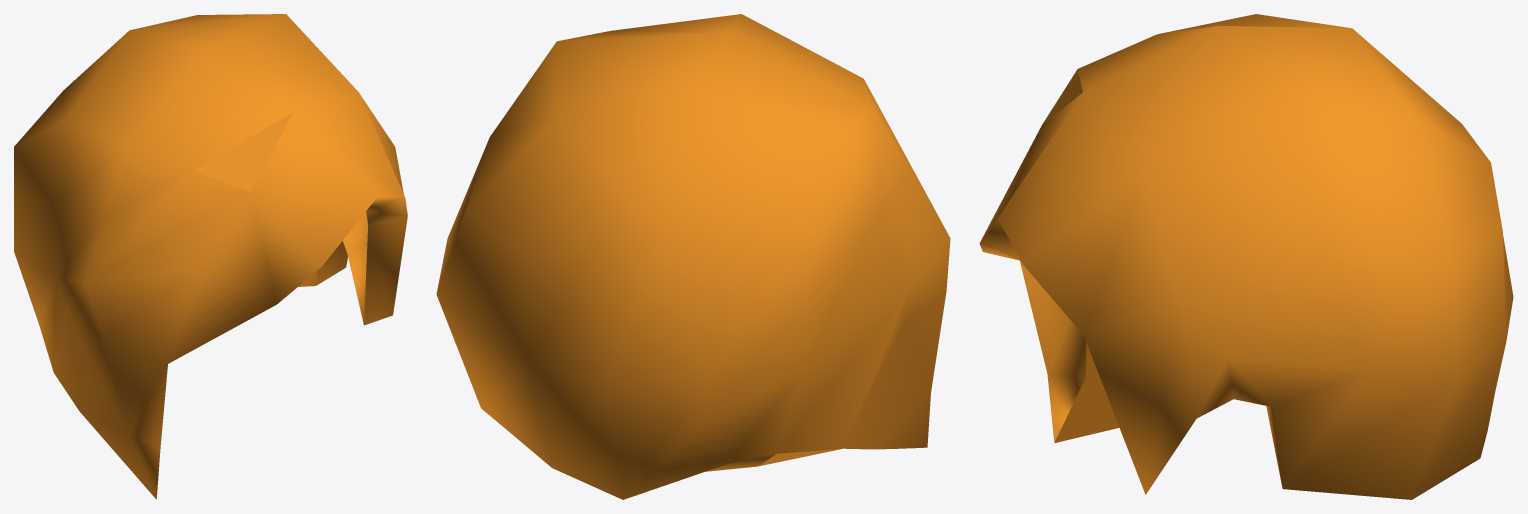
The model's file is HairKarenBlonde.fbx.
3 renders of one model, left to right at view 1: azimuth 30°, elevation 25°; view 2: azimuth 150°, elevation 25°; view 3: azimuth 270°, elevation 25°, orthographic. The views are drawn at different scales.
Parts seen in each view (by area): view 1: HairKarenBlonde; view 2: HairKarenBlonde; view 3: HairKarenBlonde.
Boxes of the visible parts, x1,y1,x2,y2 form: HairKarenBlonde: (14,14,407,499); HairKarenBlonde: (436,14,950,499); HairKarenBlonde: (979,14,1513,499).
Size of the model in its own units: 55.77 by 59.13 by 58.89.
